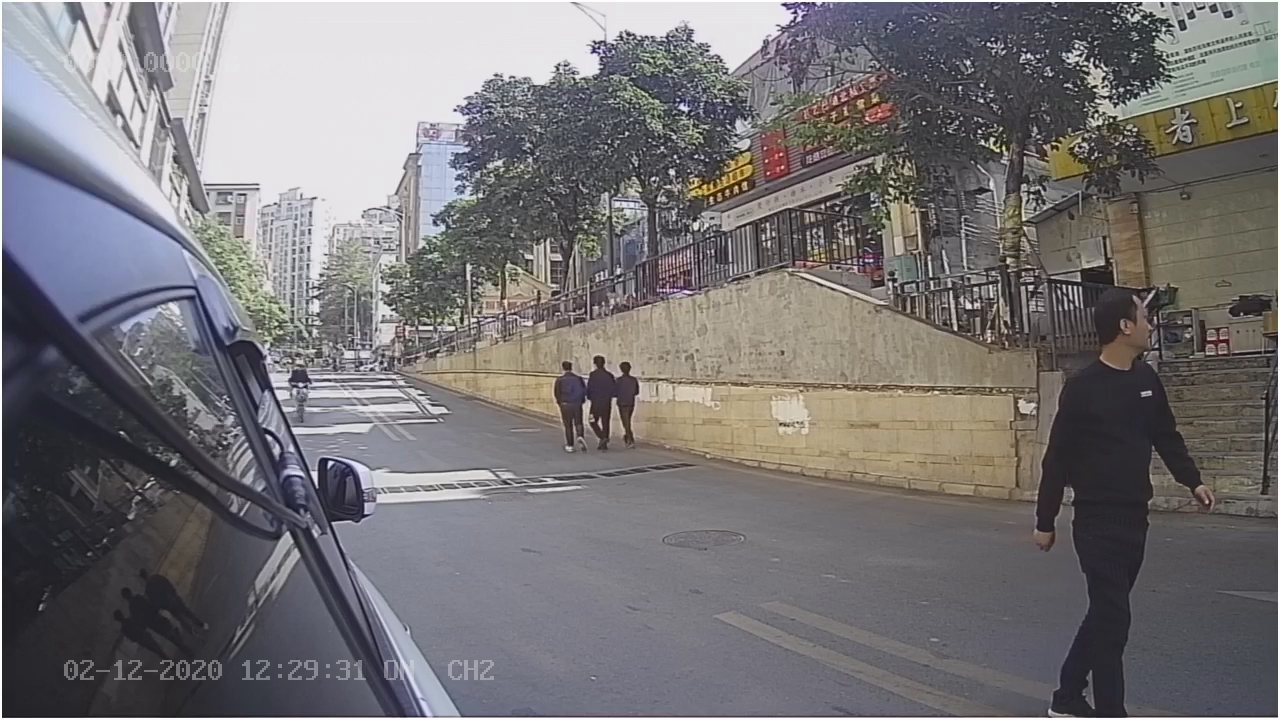person: (1025, 279, 1217, 556)
